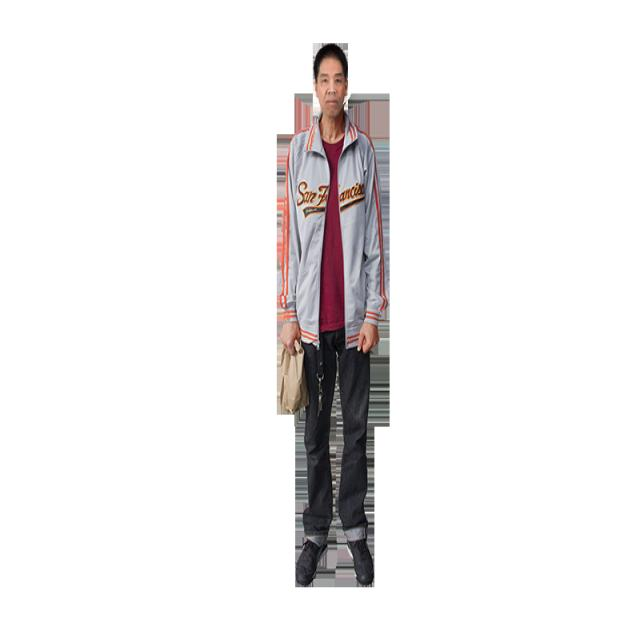jovem: (271, 39, 401, 602)
